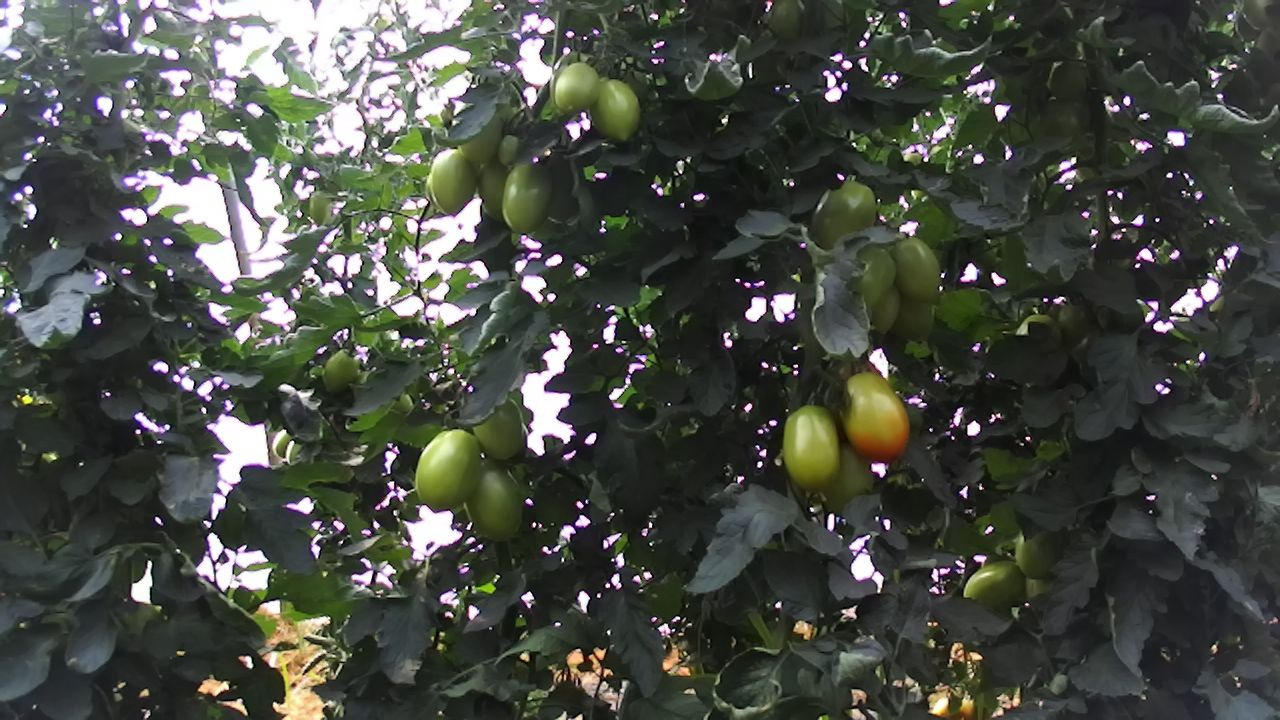tomato: (830, 365, 912, 469), (777, 396, 848, 497), (412, 425, 484, 520), (805, 174, 883, 257), (465, 451, 526, 547), (499, 154, 557, 236), (891, 230, 944, 309), (958, 557, 1030, 613), (426, 146, 478, 218), (472, 395, 525, 462), (593, 76, 640, 143), (549, 59, 603, 115), (319, 346, 361, 397), (493, 129, 521, 169)
